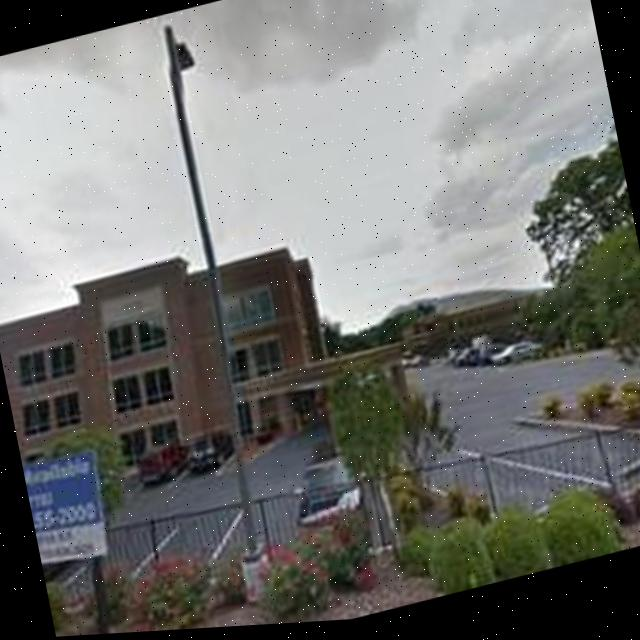building: (0, 221, 339, 499), (397, 283, 545, 365)
